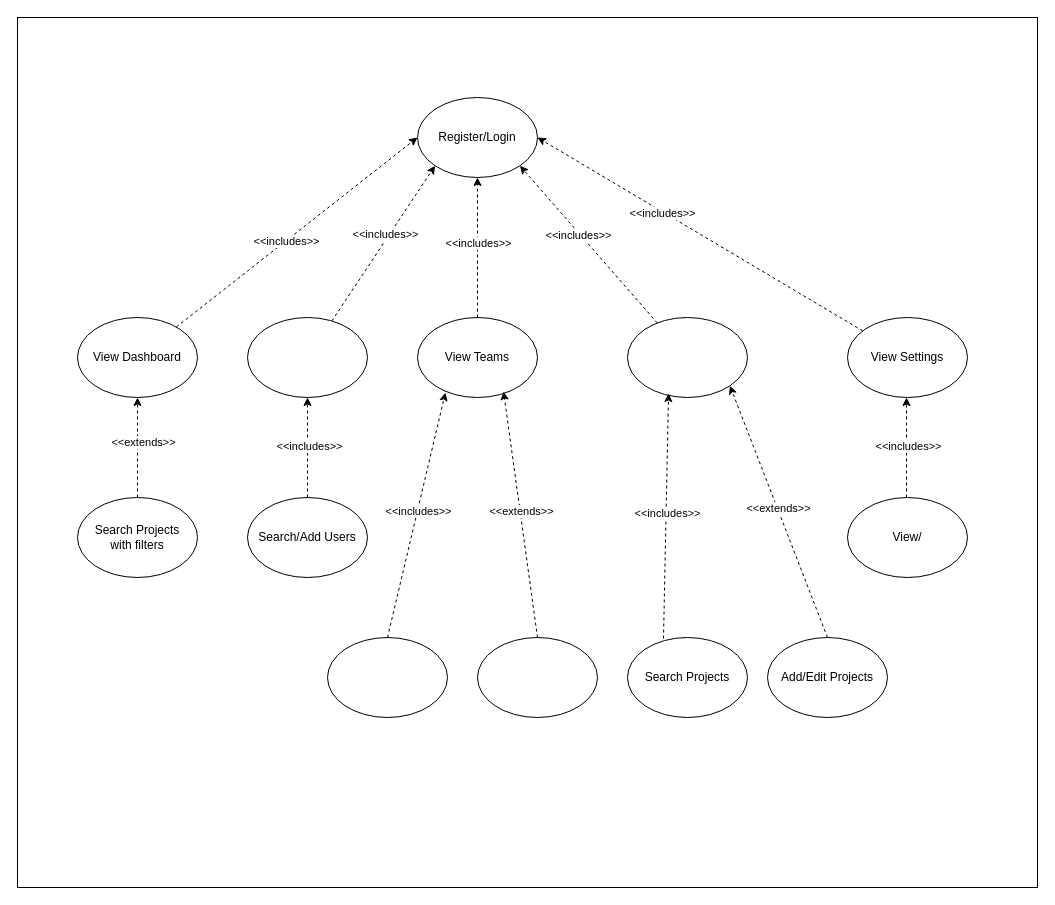
This 1055x905 diagram has some shape labels left out. Each missing label, with the box of its shape:
Add/Edit Teams: (476, 636, 598, 718)
Search Teams: (326, 636, 448, 718)
View Projects: (626, 316, 748, 398)
View Users: (246, 316, 368, 398)
